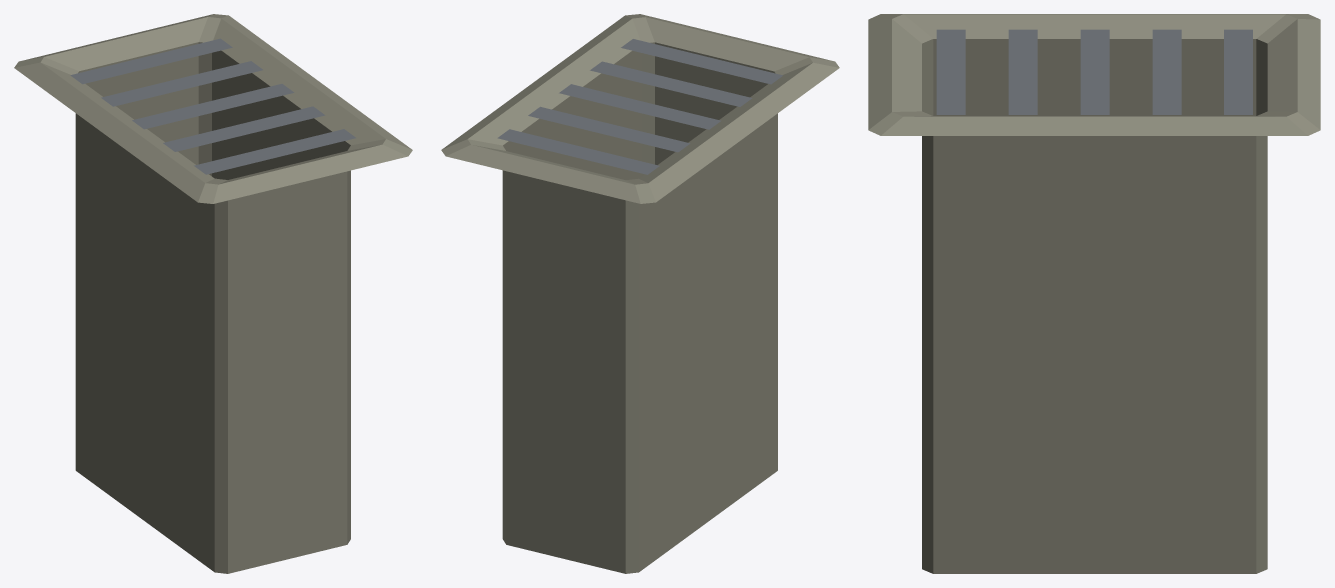
The model's file is sewer.fbx.
3 views of the same model, side by side, from view 1: azimuth 30°, elevation 25°; view 2: azimuth 150°, elevation 25°; view 3: azimuth 270°, elevation 25° (orthographic). The views are drawn at different scales.
Parts seen in each view (by area): view 1: sewer; view 2: sewer; view 3: sewer.
Boxes of the visible parts, left/top/right/bottom form: sewer: left=14, top=14, right=412, bottom=573; sewer: left=441, top=14, right=839, bottom=573; sewer: left=868, top=14, right=1320, bottom=573.
Size of the model in its own units: 109 by 195 by 170.
